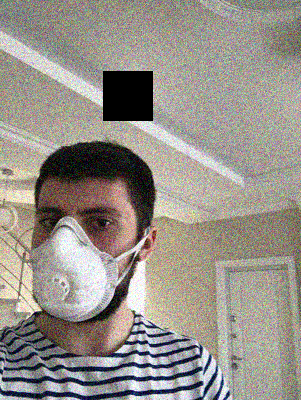with_mask: (29, 198, 135, 324)
